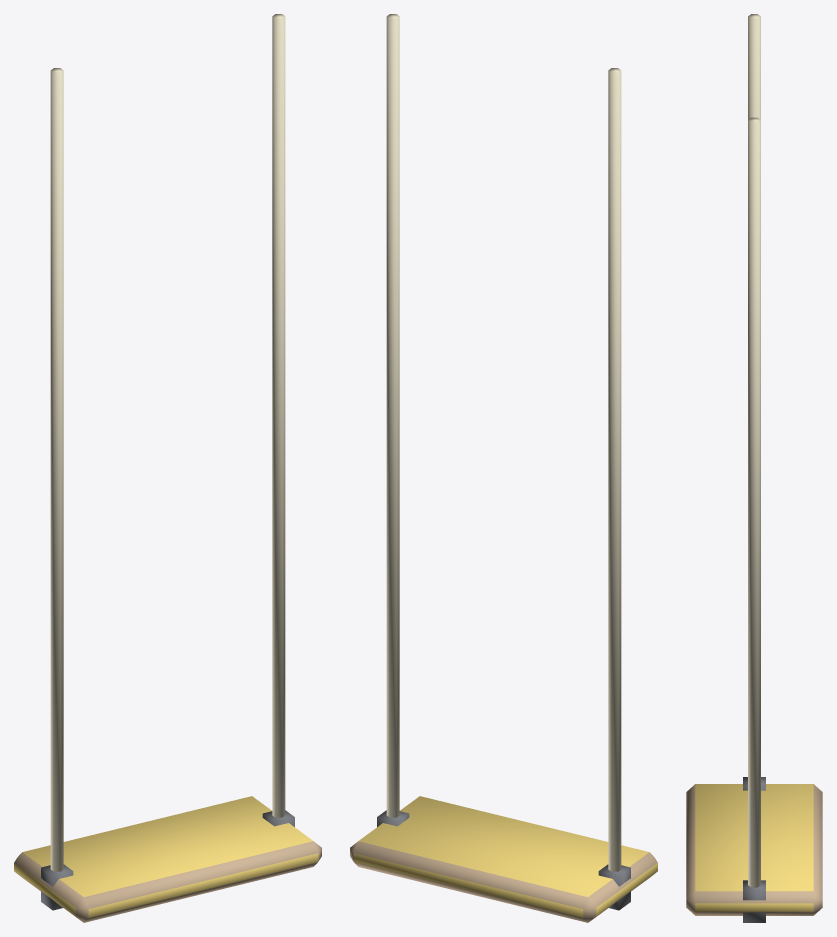
Rendered from swing_seat.glb.
3 renders of one model, left to right at view 1: azimuth 30°, elevation 25°; view 2: azimuth 150°, elevation 25°; view 3: azimuth 270°, elevation 25°, orthographic. The views are drawn at different scales.
Parts seen in each view (by area): view 1: swing_seat; view 2: swing_seat; view 3: swing_seat.
Part boxes in pixels (x1=…): swing_seat: x1=14, y1=14, x2=321, y2=922; swing_seat: x1=350, y1=14, x2=657, y2=922; swing_seat: x1=686, y1=14, x2=822, y2=922.
Bounding box in the file's own units: 0.6 × 1.94 × 0.3.
